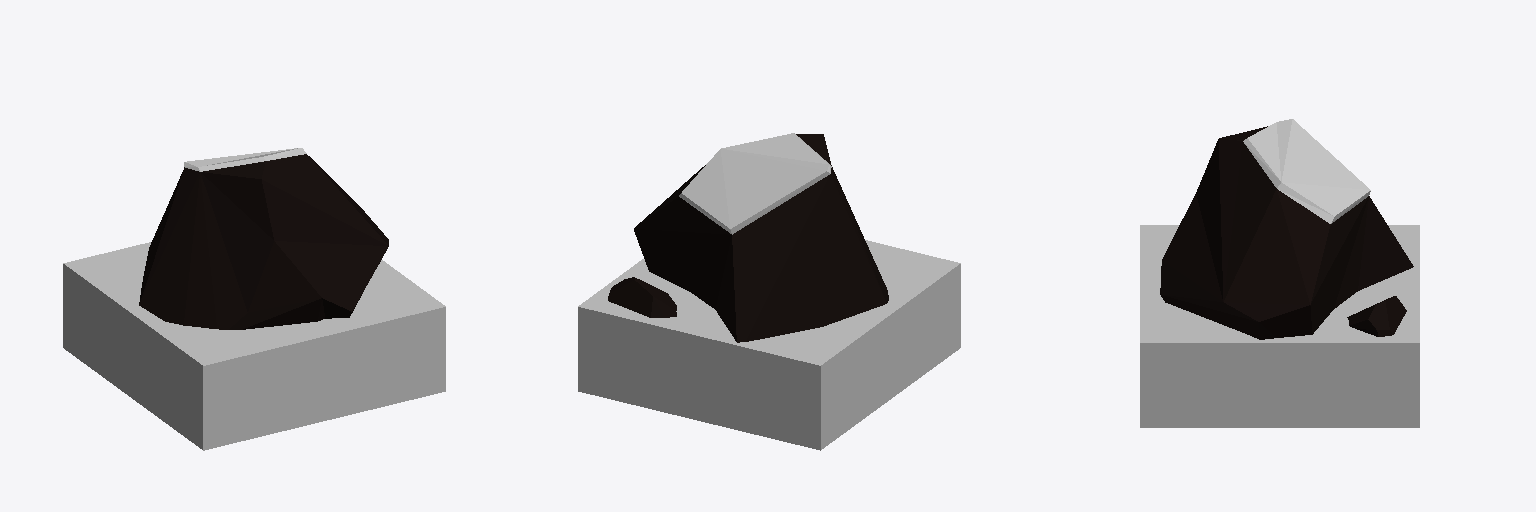
Rendered from Tile_Rock_4.obj.
The picture shows the model from 3 angles: view 1: azimuth 30°, elevation 25°; view 2: azimuth 150°, elevation 25°; view 3: azimuth 270°, elevation 25°; orthographic projection.
Parts seen in each view (by area): view 1: Cube, Cube.007_Cube.008; view 2: Cube, Cube.007_Cube.008, Cube.008_Cube.009; view 3: Cube.007_Cube.008, Cube, Cube.008_Cube.009.
Boxes of the visible parts, box(x1,y1,x2,y2) form: Cube: box(63, 242, 445, 450); Cube.007_Cube.008: box(139, 148, 388, 329); Cube: box(578, 240, 960, 450); Cube.007_Cube.008: box(634, 133, 888, 342); Cube.008_Cube.009: box(608, 277, 676, 317); Cube.007_Cube.008: box(1160, 119, 1413, 339); Cube: box(1140, 225, 1419, 427); Cube.008_Cube.009: box(1347, 296, 1406, 336).
Size of the model in its own units: 3.03 by 2.68 by 3.